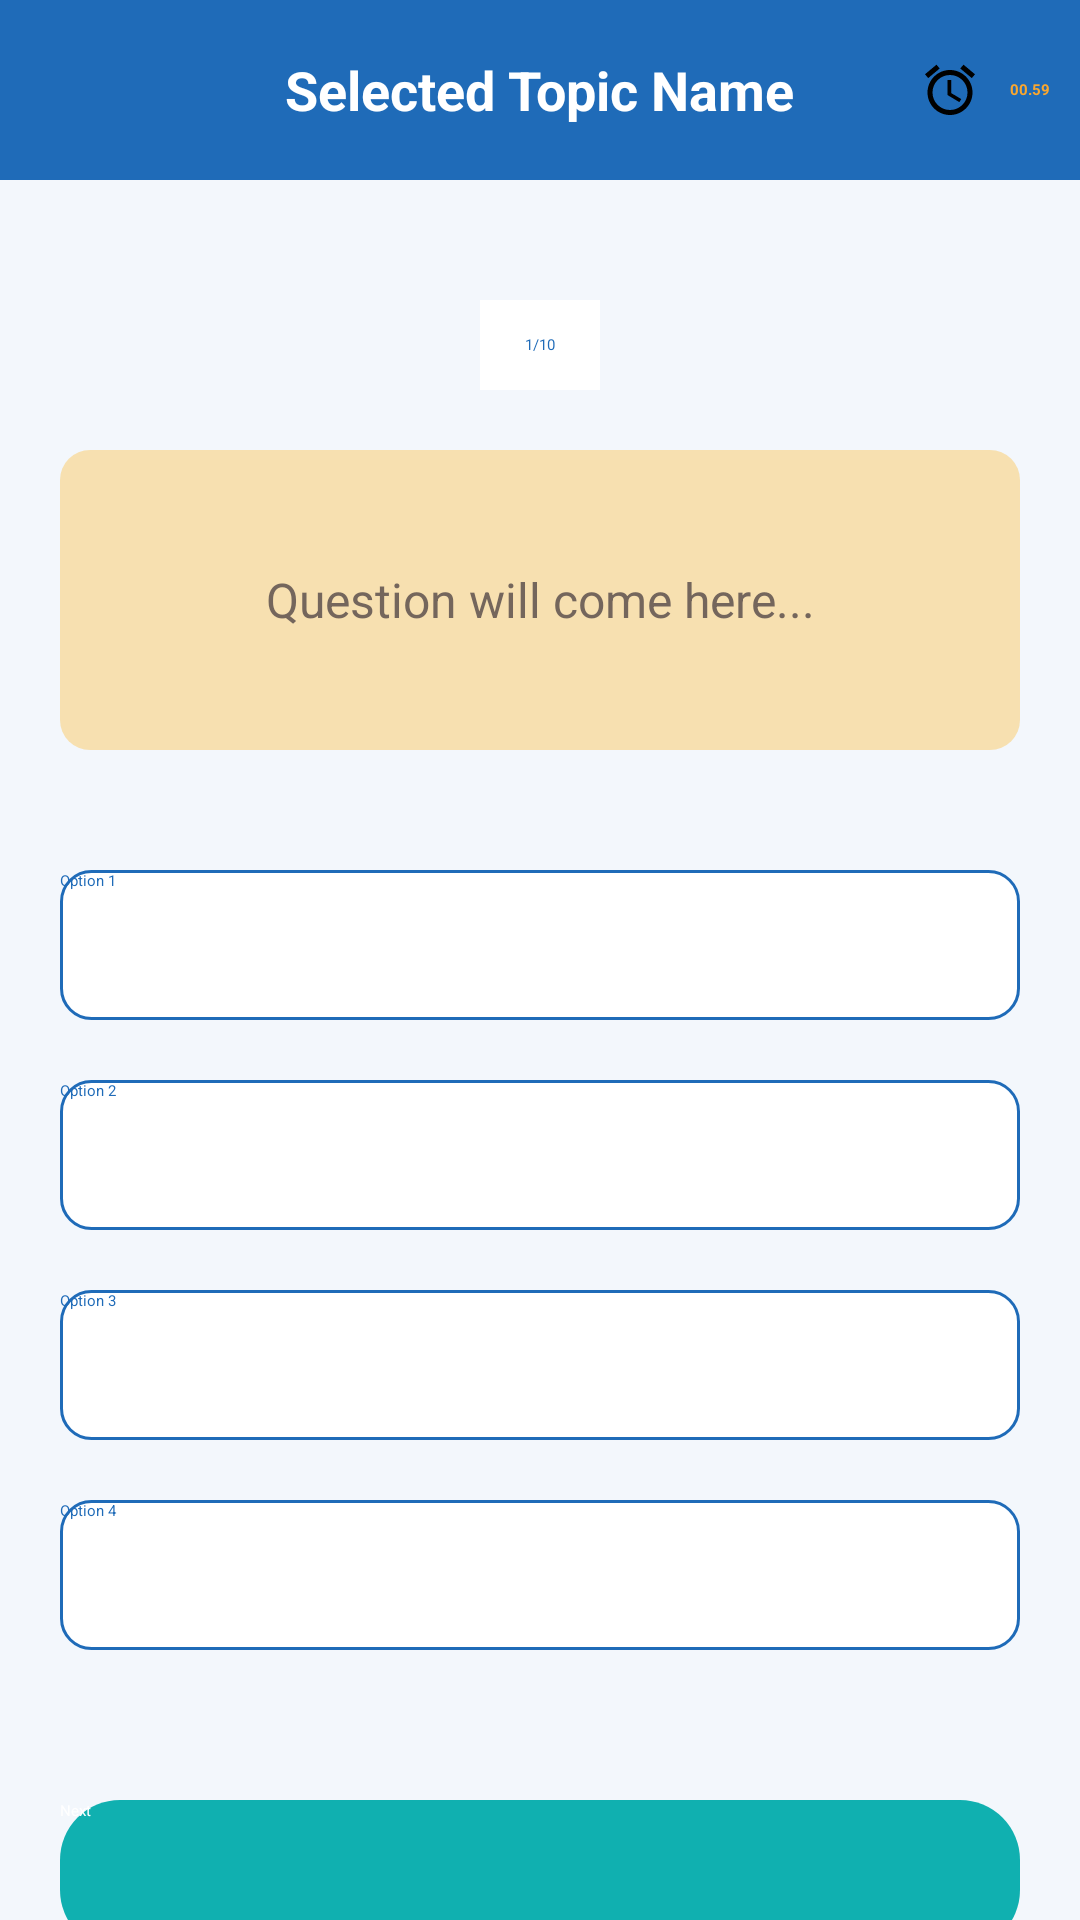

Where to tap for icons on this 1080*1920 app screen, as (x,y):
timer: (950,90)
